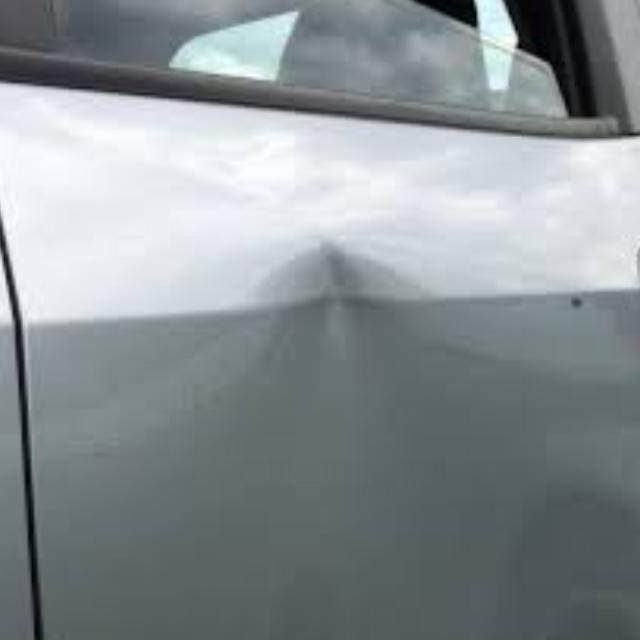dents: (234, 238, 434, 396)
